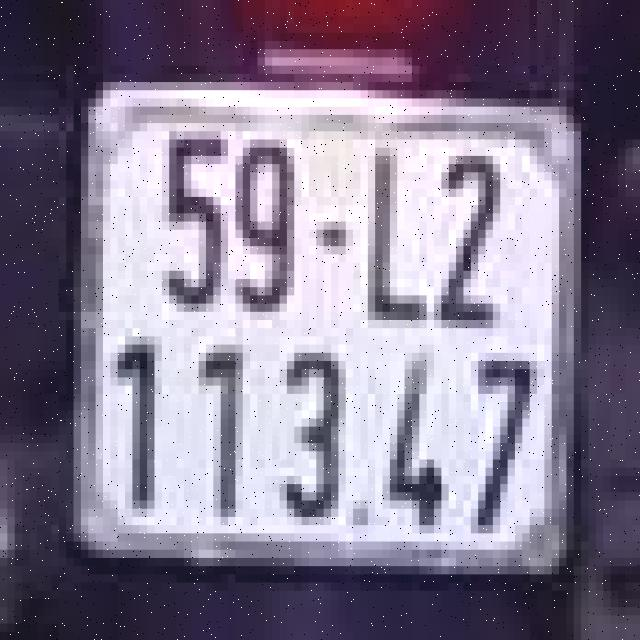1: (110, 337, 170, 525), (195, 345, 254, 525)
2: (438, 144, 511, 332)
3: (272, 341, 353, 529)
4: (375, 345, 456, 533)
5: (147, 123, 236, 320)
7: (464, 349, 544, 537)
9: (232, 139, 305, 320)
L: (353, 140, 434, 336)
